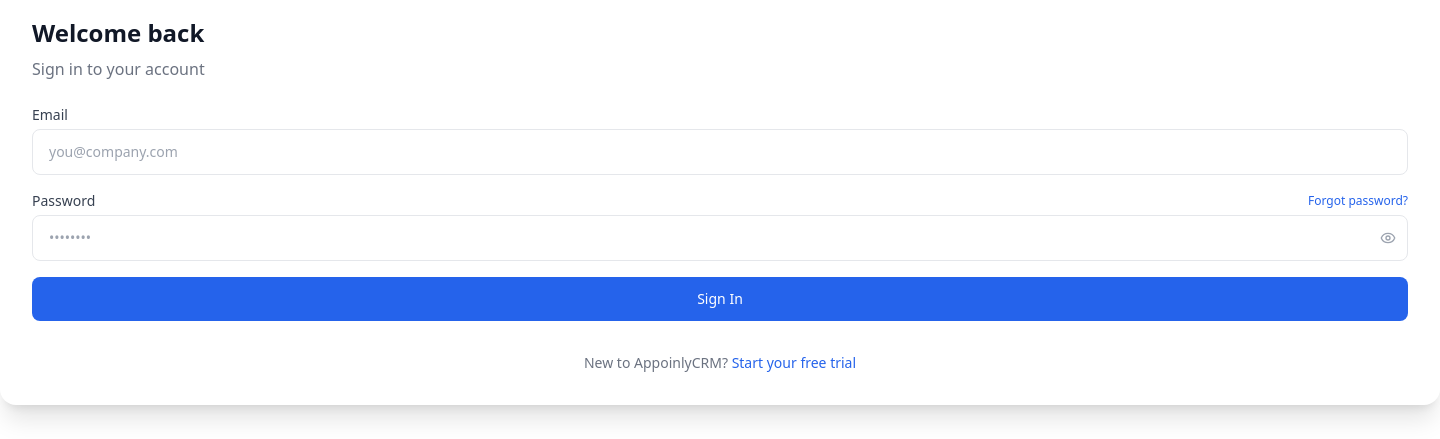
Scenario: Login page › renders the 2FA prompt when the API returns requires2fa
Step 1. Type "user@example.com" into the field with placeholder "you@company.com" → [720, 152], box [32,129,1408,175]
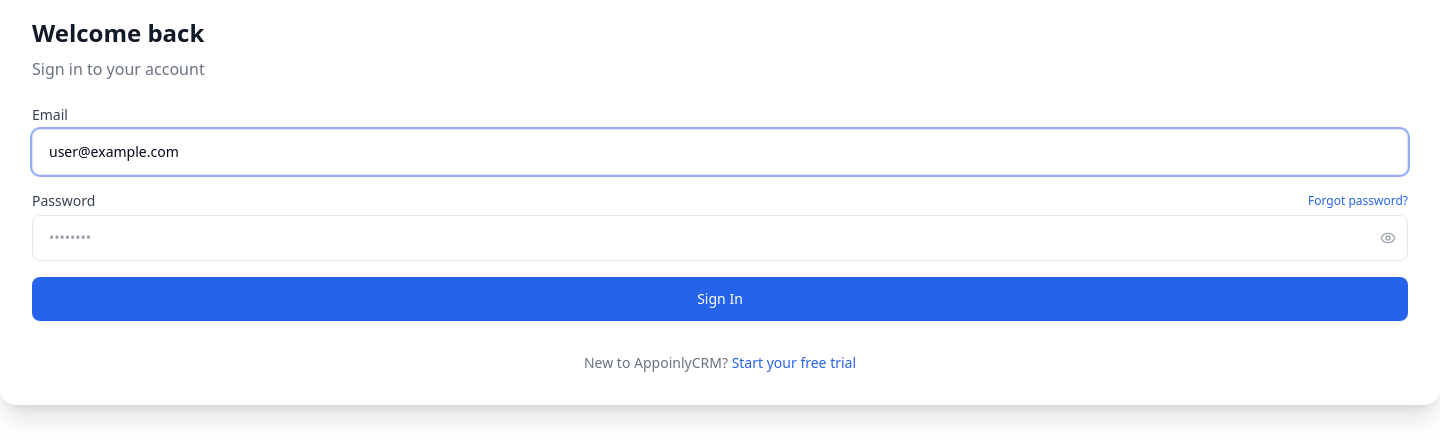
Step 2. Type "password1" into the password field with placeholder "••••••••" → [720, 238], box [32,215,1408,261]
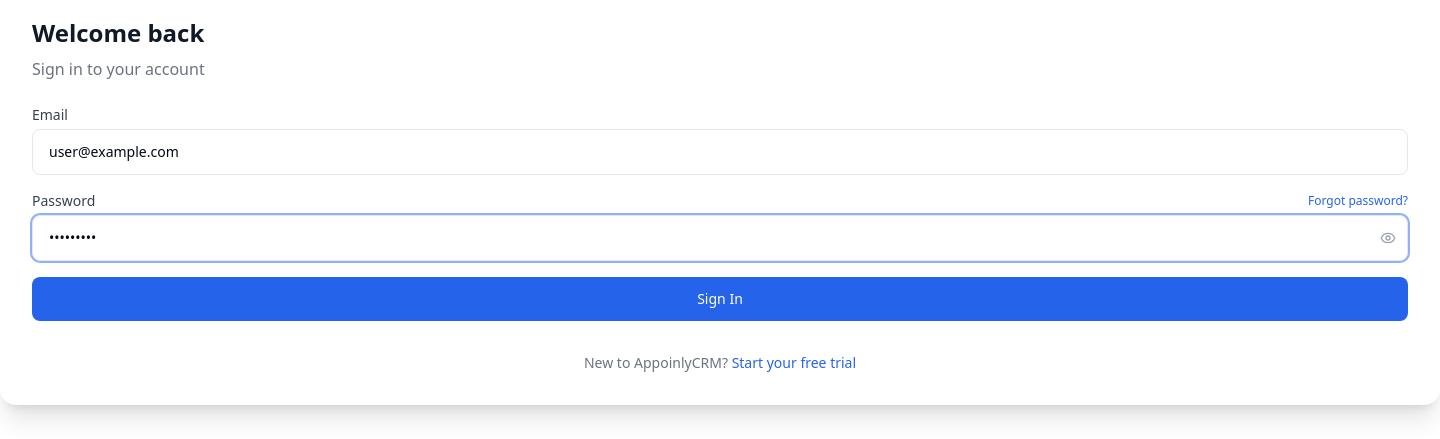
Step 3. Click the button "Sign In" → [720, 299], box [32,277,1408,321]
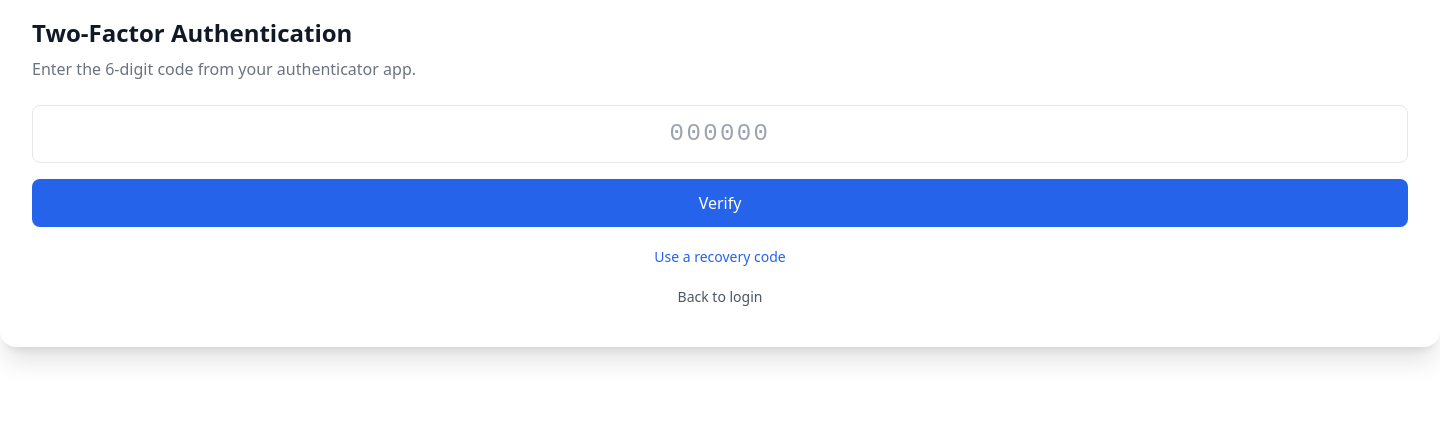
Result: the heading "Two-Factor Authentication" is shown at [32,16,352,49]
Result: the field with placeholder "000000" is shown at [32,105,1408,163]
Result: the button "Verify" is shown at [32,179,1408,227]
